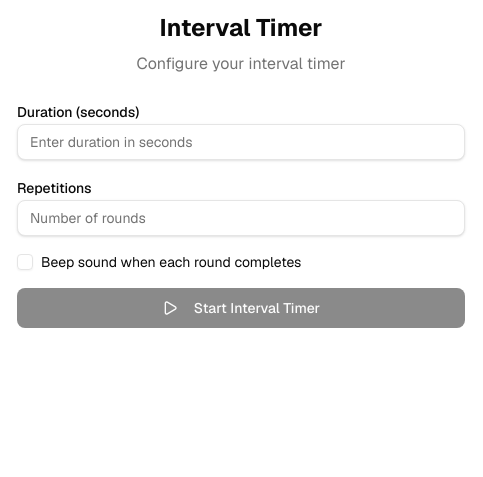
Test: RepeatTimer › Timer Execution › should display current round when timer is running
Type "1" into the number field labelled "Duration (seconds)" at (241, 142), box [17, 124, 465, 160]
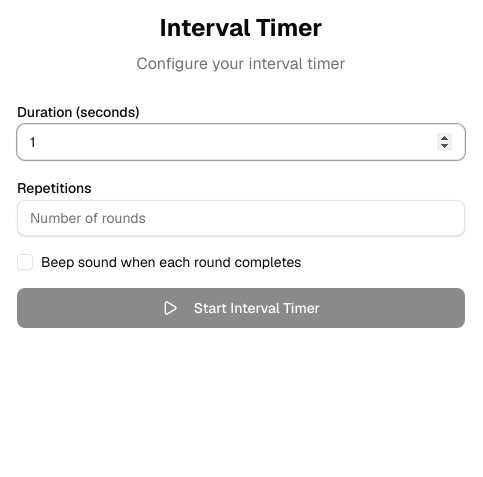
Type "3" into the number field labelled "Repetitions" at (241, 218), box [17, 200, 465, 236]
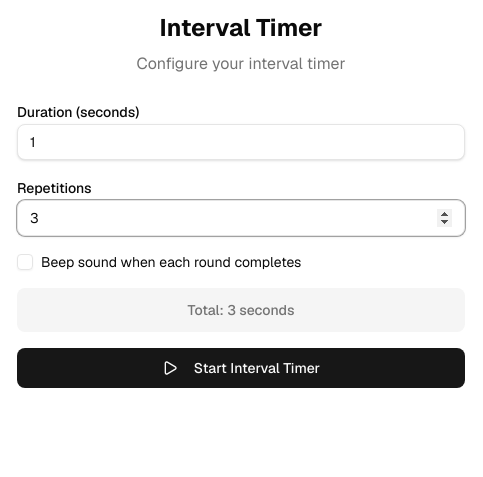
Click the button "Start Interval Timer" at (241, 368), box [17, 348, 465, 388]
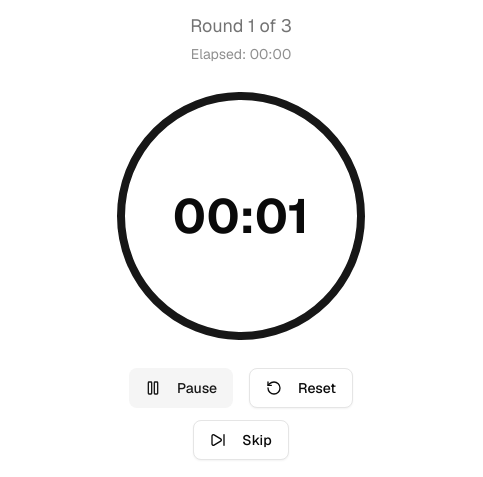
Expected: the text "Round 1 of 3" is shown, [190, 12, 292, 40]
